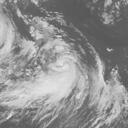cyclone: (15, 22, 121, 120)
